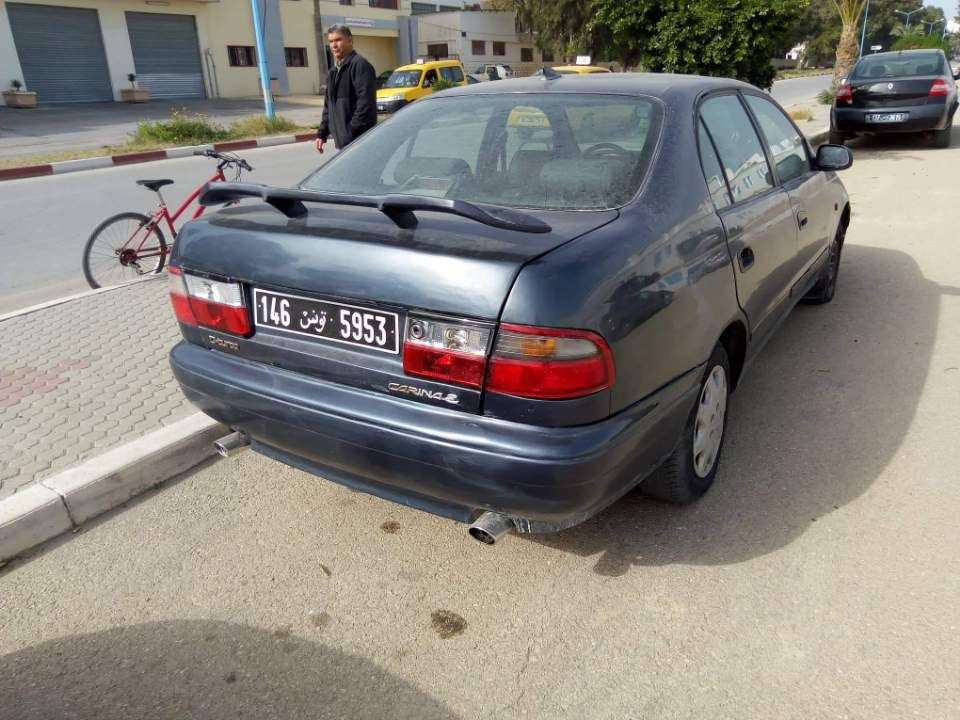LP: (251, 288, 400, 352)
